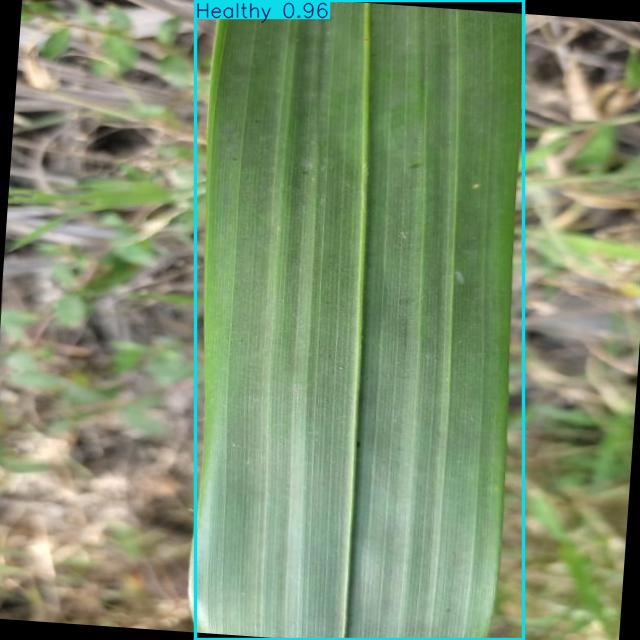Healthy: (196, 0, 524, 640)
